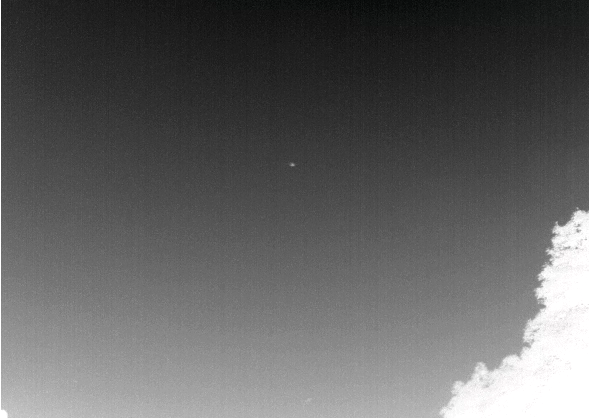dim target: (288, 161, 297, 168)
